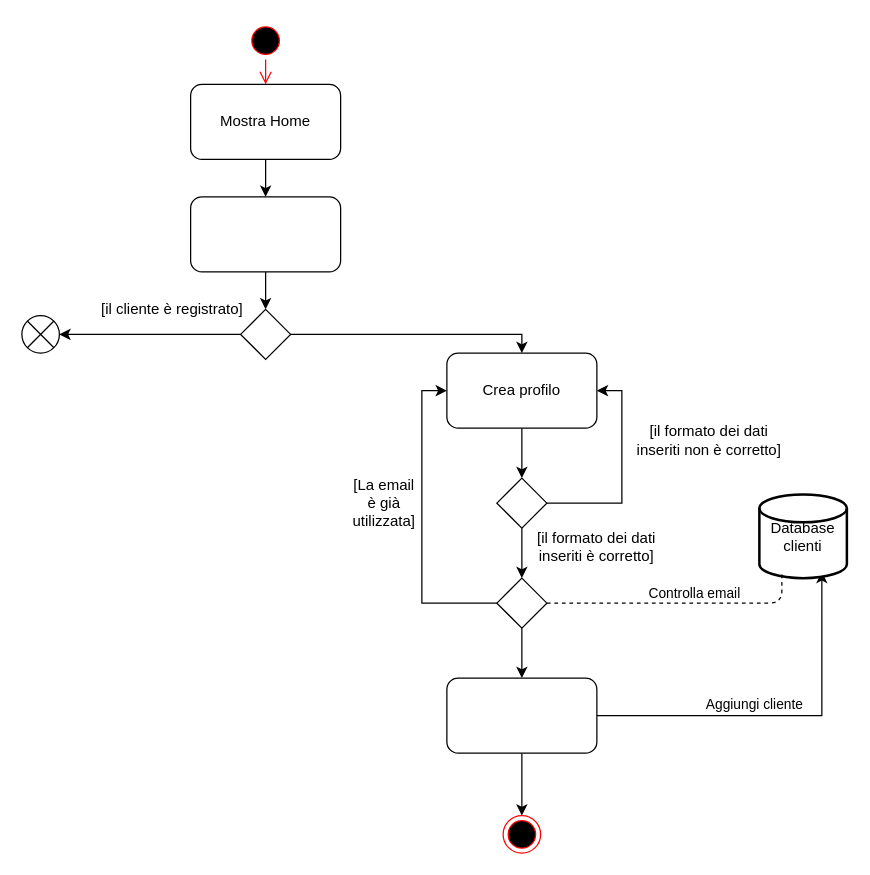
Image size: 870x875. Some labels were removed from this diagram. Each missing label, with the centre of its shape:
Memorizza Profilo: the point at 521,715
Mostra Registrati: the point at 265,234
